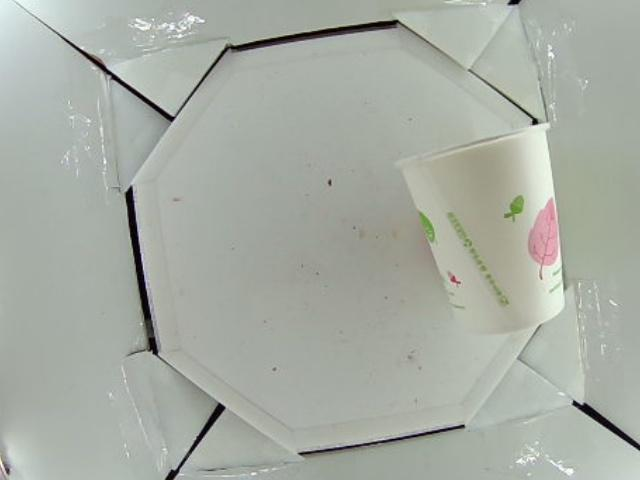Cup: (399, 121, 568, 330)
